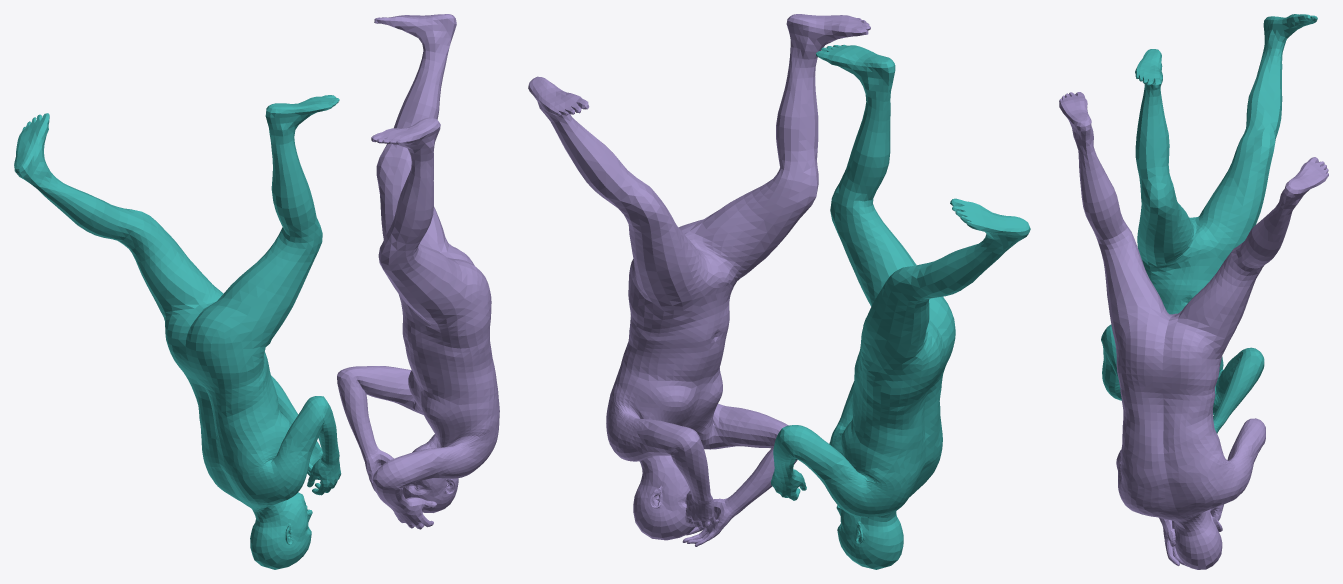
Rendered from all_people_native_world.glb.
3 views of the same model, side by side, from view 1: azimuth 30°, elevation 25°; view 2: azimuth 150°, elevation 25°; view 3: azimuth 270°, elevation 25° (orthographic). The views are drawn at different scales.
Visible parts, largest first — view 1: persistent_id_1_slot_1, persistent_id_2_slot_0; view 2: persistent_id_2_slot_0, persistent_id_1_slot_1; view 3: persistent_id_2_slot_0, persistent_id_1_slot_1.
Part boxes in pixels (x1,y1,x2,y2): persistent_id_1_slot_1: (14, 95, 341, 569); persistent_id_2_slot_0: (337, 14, 499, 529); persistent_id_2_slot_0: (528, 14, 870, 546); persistent_id_1_slot_1: (771, 44, 1030, 569); persistent_id_2_slot_0: (1059, 92, 1328, 569); persistent_id_1_slot_1: (1101, 14, 1317, 433).
Bounding box in the file's own units: 1.67 × 1.67 × 0.9297.
